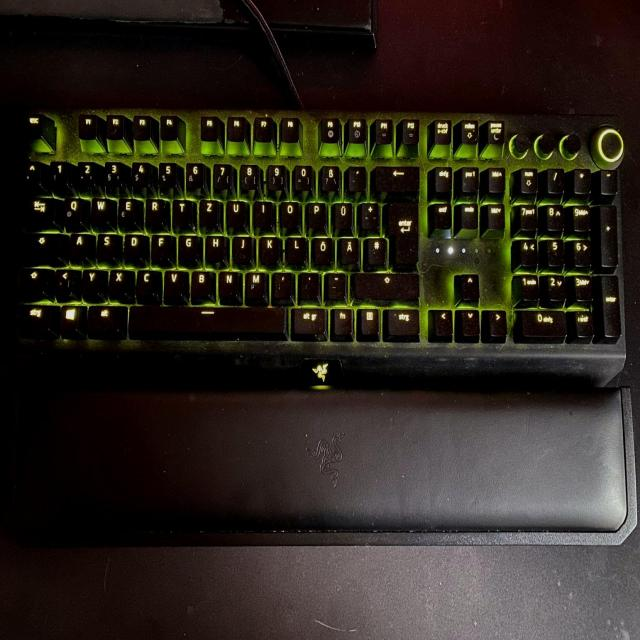0: (292, 161, 313, 189)
1: (48, 157, 67, 187)
2: (75, 158, 95, 187)
3: (102, 158, 123, 187)
4: (130, 158, 150, 187)
5: (157, 158, 177, 187)
6: (184, 159, 204, 188)
7: (211, 160, 231, 189)
8: (238, 160, 259, 190)
9: (265, 162, 286, 189)
a: (67, 230, 87, 260)
accent: (345, 163, 365, 190)
ae: (338, 234, 358, 264)
alt-left: (84, 302, 121, 333)
altgr-right: (290, 304, 327, 335)
b: (189, 267, 212, 297)
c: (134, 266, 156, 296)
caret: (20, 158, 39, 185)
comma: (271, 268, 292, 298)
d: (122, 231, 143, 261)
del: (373, 163, 418, 190)
e: (116, 194, 137, 224)
enter: (385, 197, 418, 265)
f: (150, 231, 171, 261)
g: (177, 232, 198, 262)
h: (204, 232, 225, 261)
hash: (364, 234, 386, 265)
i: (252, 198, 273, 227)
j: (231, 232, 251, 262)
k: (258, 233, 279, 263)
keyboard: (9, 98, 633, 386)
l: (285, 234, 306, 263)
less: (53, 265, 72, 296)
m: (244, 268, 267, 298)
minus: (324, 269, 345, 298)
n: (217, 267, 240, 300)
o: (278, 198, 300, 228)
oe: (311, 234, 332, 264)
p: (305, 199, 325, 228)
plus: (358, 198, 378, 230)
point: (298, 269, 319, 299)
q: (62, 195, 82, 225)
r: (143, 196, 165, 226)
s: (95, 230, 116, 259)
shift-left: (17, 266, 44, 294)
shift-lock: (19, 230, 60, 260)
shift-right: (350, 270, 418, 299)
space: (124, 303, 286, 334)
ss: (319, 163, 339, 191)
strg-left: (15, 302, 50, 331)
strg-right: (385, 306, 420, 336)
t: (171, 196, 191, 226)
tab: (20, 195, 54, 224)
u: (225, 197, 246, 228)
ue: (332, 198, 352, 230)
v: (162, 267, 184, 297)
w: (89, 195, 109, 224)
x: (107, 267, 127, 295)
y: (80, 266, 99, 296)
z: (197, 196, 218, 225)
